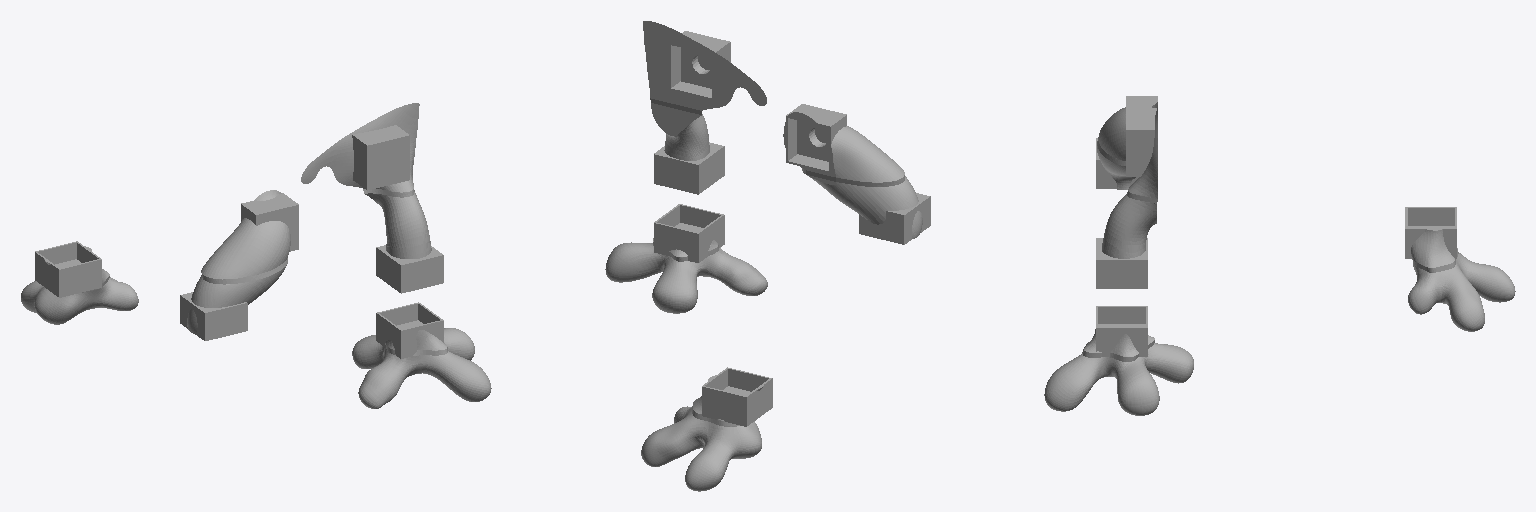
robot.urdf — FrogBot2_top-FrogBot2-x-1_bottom-FrogBot2-x-1:
<?xml version="1.0" ?>
<robot name="FrogBot2_top-FrogBot2-x-1_bottom-FrogBot2-x-1">

<material name="pla_5_percent_infill">
  <color rgba="0.700 0.700 0.700 1.000"/>
</material>

<link name="base_link">
  <inertial>
    <origin xyz="0 0 0" rpy="0 0 0"/>
    <mass value="1.3341577719423"/>
    <inertia ixx="0.0046797925109551535" iyy="0.011134478382956134" izz="0.010477176548232365" ixy="0.00012495104989682066" iyz="8.213962567094231e-05" ixz="-0.002474445058077273"/>
  </inertial>
  <visual>
    <origin xyz="0 0 0" rpy="0 0 0"/>
    <geometry>
      <mesh filename="simple_meshes/base_link.stl" scale="0.001 0.001 0.001"/>
    </geometry>
    <material name="pla_5_percent_infill"/>
  </visual>
  <collision>
    <origin xyz="0 0 0" rpy="0 0 0"/>
    <geometry>
      <mesh filename="simple_meshes/base_link.stl" scale="0.001 0.001 0.001"/>
    </geometry>
  </collision>
</link>

<link name="body_1_0_1">
  <inertial>
    <origin xyz="-0.053395 -0.09218 -0.023663" rpy="0 0 0"/>
    <mass value="0.05181755231490285"/>
    <inertia ixx="6.536903898336755e-05" iyy="6.881191573337948e-05" izz="1.7987144878947288e-05" ixy="-3.238768744947174e-07" iyz="4.588672547667545e-06" ixz="7.609197508524172e-06"/>
  </inertial>
  <visual>
    <origin xyz="-0.053395 -0.09218 -0.023663" rpy="0 0 0"/>
    <geometry>
      <mesh filename="simple_meshes/body_1_0_1.stl" scale="0.001 0.001 0.001"/>
    </geometry>
    <material name="pla_5_percent_infill"/>
  </visual>
  <collision>
    <origin xyz="-0.053395 -0.09218 -0.023663" rpy="0 0 0"/>
    <geometry>
      <mesh filename="simple_meshes/body_1_0_1.stl" scale="0.001 0.001 0.001"/>
    </geometry>
  </collision>
</link>

<link name="body_1_1_1">
  <inertial>
    <origin xyz="0.095032 -0.09218 0.005345" rpy="0 0 0"/>
    <mass value="0.0973469749886884"/>
    <inertia ixx="6.551925439724935e-05" iyy="0.00012844904834882482" izz="9.773491841719465e-05" ixy="4.534690595487095e-06" iyz="4.8709986384486e-06" ixz="-3.705166144969896e-05"/>
  </inertial>
  <visual>
    <origin xyz="0.095032 -0.09218 0.005345" rpy="0 0 0"/>
    <geometry>
      <mesh filename="simple_meshes/body_1_1_1.stl" scale="0.001 0.001 0.001"/>
    </geometry>
    <material name="pla_5_percent_infill"/>
  </visual>
  <collision>
    <origin xyz="0.095032 -0.09218 0.005345" rpy="0 0 0"/>
    <geometry>
      <mesh filename="simple_meshes/body_1_1_1.stl" scale="0.001 0.001 0.001"/>
    </geometry>
  </collision>
</link>

<link name="body_1_2_1">
  <inertial>
    <origin xyz="-0.041549 0.09218 -0.043945" rpy="0 0 0"/>
    <mass value="0.06101320727934863"/>
    <inertia ixx="0.00011607866512522349" iyy="0.00012146072575761399" izz="2.9115094758221582e-05" ixy="1.6624694795368288e-06" iyz="-1.6749839664340714e-05" ixz="1.8281677202385782e-05"/>
  </inertial>
  <visual>
    <origin xyz="-0.041549 0.09218 -0.043945" rpy="0 0 0"/>
    <geometry>
      <mesh filename="simple_meshes/body_1_2_1.stl" scale="0.001 0.001 0.001"/>
    </geometry>
    <material name="pla_5_percent_infill"/>
  </visual>
  <collision>
    <origin xyz="-0.041549 0.09218 -0.043945" rpy="0 0 0"/>
    <geometry>
      <mesh filename="simple_meshes/body_1_2_1.stl" scale="0.001 0.001 0.001"/>
    </geometry>
  </collision>
</link>

<link name="body_1_3_1">
  <inertial>
    <origin xyz="0.087142 0.09218 -0.003397" rpy="0 0 0"/>
    <mass value="0.0995550214806045"/>
    <inertia ixx="6.751085734349894e-05" iyy="0.00012894071686629324" izz="9.789317376424512e-05" ixy="-7.184023345715692e-06" iyz="-4.93085847283871e-06" ixz="-3.7240310838770375e-05"/>
  </inertial>
  <visual>
    <origin xyz="0.087142 0.09218 -0.003397" rpy="0 0 0"/>
    <geometry>
      <mesh filename="simple_meshes/body_1_3_1.stl" scale="0.001 0.001 0.001"/>
    </geometry>
    <material name="pla_5_percent_infill"/>
  </visual>
  <collision>
    <origin xyz="0.087142 0.09218 -0.003397" rpy="0 0 0"/>
    <geometry>
      <mesh filename="simple_meshes/body_1_3_1.stl" scale="0.001 0.001 0.001"/>
    </geometry>
  </collision>
</link>

<link name="body_2_0_1">
  <inertial>
    <origin xyz="-0.065654 -0.139685 0.099558" rpy="0 0 0"/>
    <mass value="0.10160186213074929"/>
    <inertia ixx="0.00011010002995882288" iyy="0.00012086272824978102" izz="0.00019059100130232104" ixy="-1.1444704909734961e-05" iyz="6.2105593020074686e-06" ixz="5.1307553116273705e-06"/>
  </inertial>
  <visual>
    <origin xyz="-0.065654 -0.139685 0.099558" rpy="0 0 0"/>
    <geometry>
      <mesh filename="simple_meshes/body_2_0_1.stl" scale="0.001 0.001 0.001"/>
    </geometry>
    <material name="pla_5_percent_infill"/>
  </visual>
  <collision>
    <origin xyz="-0.065654 -0.139685 0.099558" rpy="0 0 0"/>
    <geometry>
      <mesh filename="simple_meshes/body_2_0_1.stl" scale="0.001 0.001 0.001"/>
    </geometry>
  </collision>
</link>

<link name="body_2_1_1">
  <inertial>
    <origin xyz="0.15751 -0.143533 0.099558" rpy="0 0 0"/>
    <mass value="0.08134222741558278"/>
    <inertia ixx="6.452271090579519e-05" iyy="7.97874956739034e-05" izz="9.513706690628251e-05" ixy="-2.973113913482678e-09" iyz="1.75892580950277e-05" ixz="9.697713243010577e-06"/>
  </inertial>
  <visual>
    <origin xyz="0.15751 -0.143533 0.099558" rpy="0 0 0"/>
    <geometry>
      <mesh filename="simple_meshes/body_2_1_1.stl" scale="0.001 0.001 0.001"/>
    </geometry>
    <material name="pla_5_percent_infill"/>
  </visual>
  <collision>
    <origin xyz="0.15751 -0.143533 0.099558" rpy="0 0 0"/>
    <geometry>
      <mesh filename="simple_meshes/body_2_1_1.stl" scale="0.001 0.001 0.001"/>
    </geometry>
  </collision>
</link>

<link name="body_2_2_1">
  <inertial>
    <origin xyz="-0.061161 0.145934 0.099558" rpy="0 0 0"/>
    <mass value="0.09823051945494099"/>
    <inertia ixx="0.00010874230007478555" iyy="0.00011714517474443846" izz="0.0001886891247560021" ixy="1.1791432311795231e-05" iyz="-3.0993597124055923e-06" ixz="2.0828268555066285e-06"/>
  </inertial>
  <visual>
    <origin xyz="-0.061161 0.145934 0.099558" rpy="0 0 0"/>
    <geometry>
      <mesh filename="simple_meshes/body_2_2_1.stl" scale="0.001 0.001 0.001"/>
    </geometry>
    <material name="pla_5_percent_infill"/>
  </visual>
  <collision>
    <origin xyz="-0.061161 0.145934 0.099558" rpy="0 0 0"/>
    <geometry>
      <mesh filename="simple_meshes/body_2_2_1.stl" scale="0.001 0.001 0.001"/>
    </geometry>
  </collision>
</link>

<link name="body_2_3_1">
  <inertial>
    <origin xyz="0.160089 0.145768 0.099558" rpy="0 0 0"/>
    <mass value="0.0771265452073955"/>
    <inertia ixx="6.814296363398704e-05" iyy="7.643866995249958e-05" izz="9.081864836451257e-05" ixy="-1.4151616302634801e-06" iyz="-2.0018538142617826e-05" ixz="1.2313829405951162e-05"/>
  </inertial>
  <visual>
    <origin xyz="0.160089 0.145768 0.099558" rpy="0 0 0"/>
    <geometry>
      <mesh filename="simple_meshes/body_2_3_1.stl" scale="0.001 0.001 0.001"/>
    </geometry>
    <material name="pla_5_percent_infill"/>
  </visual>
  <collision>
    <origin xyz="0.160089 0.145768 0.099558" rpy="0 0 0"/>
    <geometry>
      <mesh filename="simple_meshes/body_2_3_1.stl" scale="0.001 0.001 0.001"/>
    </geometry>
  </collision>
</link>

<joint name="joint_1_0" type="revolute">
  <origin xyz="0.053395 0.09218 0.023663" rpy="0 0 0"/>
  <parent link="base_link"/>
  <child link="body_1_0_1"/>
  <axis xyz="1.0 0.0 0.0"/>
  <limit upper="1.2" lower="-1.2" effort="3.8" velocity="5.4"/>
</joint>
<transmission name="joint_1_0_tran">
  <type>transmission_interface/SimpleTransmission</type>
  <joint name="joint_1_0">
    <hardwareInterface>PositionJointInterface</hardwareInterface>
  </joint>
  <actuator name="joint_1_0_actr">
    <hardwareInterface>PositionJointInterface</hardwareInterface>
    <mechanicalReduction>1</mechanicalReduction>
  </actuator>
</transmission>

<joint name="joint_1_1" type="revolute">
  <origin xyz="-0.095032 0.09218 -0.005345" rpy="0 0 0"/>
  <parent link="base_link"/>
  <child link="body_1_1_1"/>
  <axis xyz="1.0 0.0 0.0"/>
  <limit upper="1.2" lower="-1.2" effort="3.8" velocity="5.4"/>
</joint>
<transmission name="joint_1_1_tran">
  <type>transmission_interface/SimpleTransmission</type>
  <joint name="joint_1_1">
    <hardwareInterface>PositionJointInterface</hardwareInterface>
  </joint>
  <actuator name="joint_1_1_actr">
    <hardwareInterface>PositionJointInterface</hardwareInterface>
    <mechanicalReduction>1</mechanicalReduction>
  </actuator>
</transmission>

<joint name="joint_1_2" type="revolute">
  <origin xyz="0.041549 -0.09218 0.043945" rpy="0 0 0"/>
  <parent link="base_link"/>
  <child link="body_1_2_1"/>
  <axis xyz="1.0 0.0 0.0"/>
  <limit upper="1.2" lower="-1.2" effort="3.8" velocity="5.4"/>
</joint>
<transmission name="joint_1_2_tran">
  <type>transmission_interface/SimpleTransmission</type>
  <joint name="joint_1_2">
    <hardwareInterface>PositionJointInterface</hardwareInterface>
  </joint>
  <actuator name="joint_1_2_actr">
    <hardwareInterface>PositionJointInterface</hardwareInterface>
    <mechanicalReduction>1</mechanicalReduction>
  </actuator>
</transmission>

<joint name="joint_1_3" type="revolute">
  <origin xyz="-0.087142 -0.09218 0.003397" rpy="0 0 0"/>
  <parent link="base_link"/>
  <child link="body_1_3_1"/>
  <axis xyz="1.0 0.0 0.0"/>
  <limit upper="1.2" lower="-1.2" effort="3.8" velocity="5.4"/>
</joint>
<transmission name="joint_1_3_tran">
  <type>transmission_interface/SimpleTransmission</type>
  <joint name="joint_1_3">
    <hardwareInterface>PositionJointInterface</hardwareInterface>
  </joint>
  <actuator name="joint_1_3_actr">
    <hardwareInterface>PositionJointInterface</hardwareInterface>
    <mechanicalReduction>1</mechanicalReduction>
  </actuator>
</transmission>

<joint name="joint_2_0" type="revolute">
  <origin xyz="0.012259 0.047505 -0.123221" rpy="0 0 0"/>
  <parent link="body_1_0_1"/>
  <child link="body_2_0_1"/>
  <axis xyz="1.0 0.0 0.0"/>
  <limit upper="1.2" lower="-1.2" effort="3.8" velocity="5.4"/>
</joint>
<transmission name="joint_2_0_tran">
  <type>transmission_interface/SimpleTransmission</type>
  <joint name="joint_2_0">
    <hardwareInterface>PositionJointInterface</hardwareInterface>
  </joint>
  <actuator name="joint_2_0_actr">
    <hardwareInterface>PositionJointInterface</hardwareInterface>
    <mechanicalReduction>1</mechanicalReduction>
  </actuator>
</transmission>

<joint name="joint_2_1" type="revolute">
  <origin xyz="-0.062478 0.051353 -0.094213" rpy="0 0 0"/>
  <parent link="body_1_1_1"/>
  <child link="body_2_1_1"/>
  <axis xyz="1.0 0.0 0.0"/>
  <limit upper="1.2" lower="-1.2" effort="3.8" velocity="5.4"/>
</joint>
<transmission name="joint_2_1_tran">
  <type>transmission_interface/SimpleTransmission</type>
  <joint name="joint_2_1">
    <hardwareInterface>PositionJointInterface</hardwareInterface>
  </joint>
  <actuator name="joint_2_1_actr">
    <hardwareInterface>PositionJointInterface</hardwareInterface>
    <mechanicalReduction>1</mechanicalReduction>
  </actuator>
</transmission>

<joint name="joint_2_2" type="revolute">
  <origin xyz="0.019612 -0.053754 -0.143503" rpy="0 0 0"/>
  <parent link="body_1_2_1"/>
  <child link="body_2_2_1"/>
  <axis xyz="1.0 0.0 0.0"/>
  <limit upper="1.2" lower="-1.2" effort="3.8" velocity="5.4"/>
</joint>
<transmission name="joint_2_2_tran">
  <type>transmission_interface/SimpleTransmission</type>
  <joint name="joint_2_2">
    <hardwareInterface>PositionJointInterface</hardwareInterface>
  </joint>
  <actuator name="joint_2_2_actr">
    <hardwareInterface>PositionJointInterface</hardwareInterface>
    <mechanicalReduction>1</mechanicalReduction>
  </actuator>
</transmission>

<joint name="joint_2_3" type="revolute">
  <origin xyz="-0.072947 -0.053588 -0.102955" rpy="0 0 0"/>
  <parent link="body_1_3_1"/>
  <child link="body_2_3_1"/>
  <axis xyz="1.0 0.0 0.0"/>
  <limit upper="1.2" lower="-1.2" effort="3.8" velocity="5.4"/>
</joint>
<transmission name="joint_2_3_tran">
  <type>transmission_interface/SimpleTransmission</type>
  <joint name="joint_2_3">
    <hardwareInterface>PositionJointInterface</hardwareInterface>
  </joint>
  <actuator name="joint_2_3_actr">
    <hardwareInterface>PositionJointInterface</hardwareInterface>
    <mechanicalReduction>1</mechanicalReduction>
  </actuator>
</transmission>

</robot>

--- Render facts (derived) ---
3 views of the same robot in one strip: view 1: azimuth 30°, elevation 25°; view 2: azimuth 150°, elevation 25°; view 3: azimuth 270°, elevation 25° (orthographic).
Model FrogBot2_top-FrogBot2-x-1_bottom-FrogBot2-x-1 with 9 links and 8 joints (8 revolute), rooted at base_link, posed every joint at zero.
Links seen in each view (by area): view 1: body_1_2_1, body_1_3_1, body_2_2_1, body_2_1_1; view 2: body_1_2_1, body_1_3_1, body_2_2_1, body_2_1_1; view 3: body_2_2_1, body_2_1_1, body_1_2_1, body_1_3_1.
Link boxes in pixels (bbox=[...]): body_1_2_1: bbox=[301, 103, 443, 293]; body_1_3_1: bbox=[180, 190, 298, 340]; body_2_2_1: bbox=[352, 302, 491, 408]; body_2_1_1: bbox=[21, 241, 138, 324]; body_1_2_1: bbox=[643, 21, 766, 194]; body_1_3_1: bbox=[783, 104, 930, 244]; body_2_2_1: bbox=[605, 204, 767, 313]; body_2_1_1: bbox=[641, 367, 772, 491]; body_2_2_1: bbox=[1044, 306, 1193, 415]; body_2_1_1: bbox=[1405, 207, 1515, 331]; body_1_2_1: bbox=[1096, 108, 1157, 288]; body_1_3_1: bbox=[1096, 96, 1157, 189].
Bounding box of the posed robot: 0.3257 × 0.4411 × 0.2964 m (x, y, z).
Meshes: 9 distinct files referenced, 4 mesh visuals loaded (4 binary STL); not drawn: 5 (reference not matched to a file when rendering).